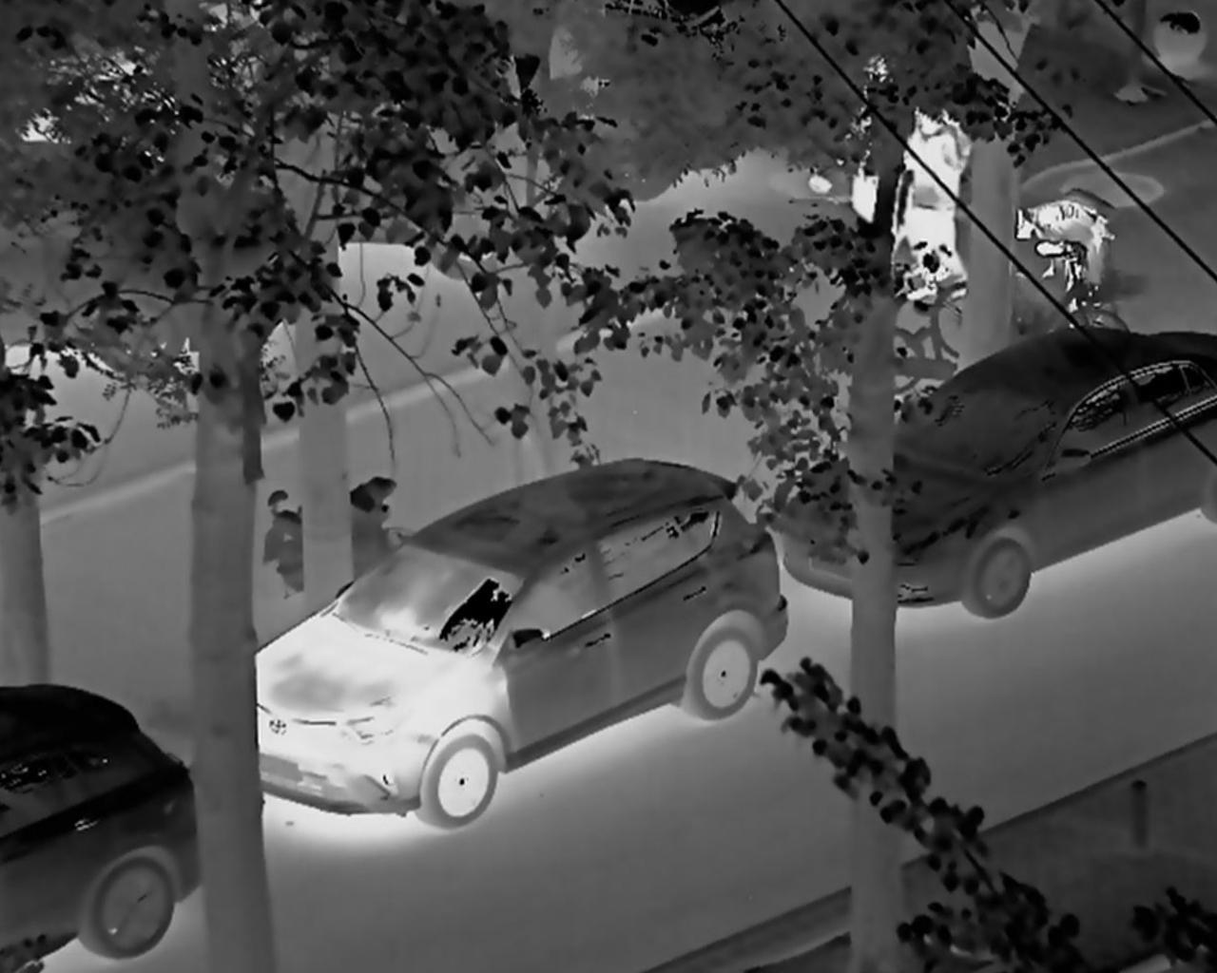person: (1009, 181, 1128, 319), (821, 43, 899, 246), (900, 100, 966, 305)
